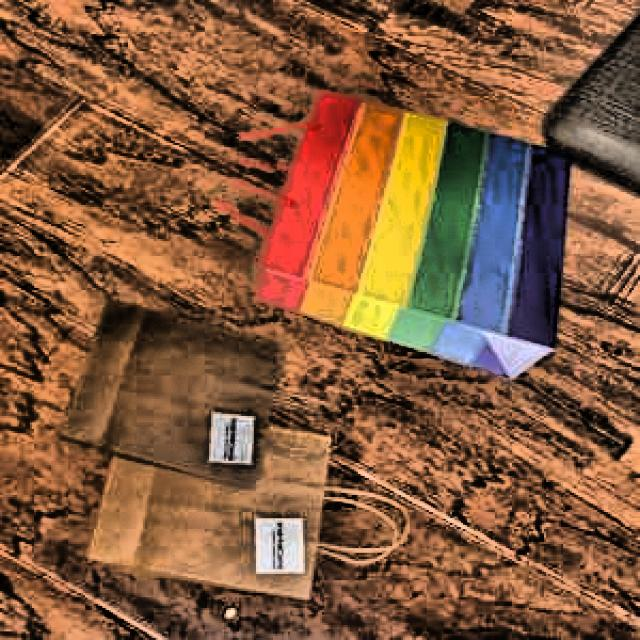Paper-bag: (198, 74, 583, 388), (75, 393, 426, 614), (56, 286, 293, 492)
